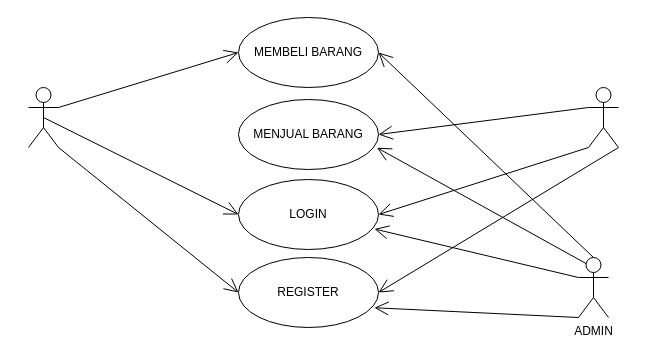
Some shapes in this 650 by 356 pixel diagram are drawn without their labels. Here are the shapes that lost their labels. From the top down, the centre of each, then its label:
the point at 43,117: PEMBELI
the point at 603,117: PENJUAL
